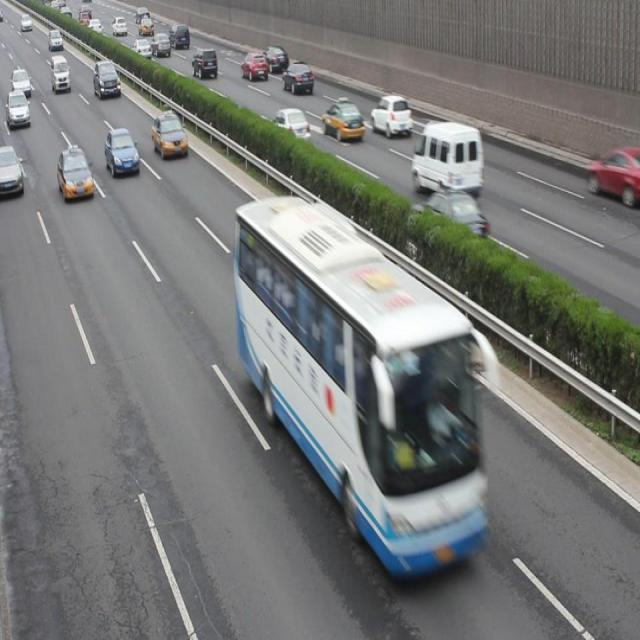car: (420, 188, 487, 243), (585, 147, 640, 206), (57, 145, 94, 202), (319, 94, 363, 140), (151, 110, 188, 160), (370, 92, 412, 136), (104, 130, 140, 176), (268, 108, 310, 143), (1, 144, 22, 199), (282, 61, 314, 94), (93, 61, 122, 97), (1, 91, 30, 126), (191, 47, 217, 80), (241, 51, 267, 78), (262, 46, 287, 73), (12, 70, 32, 97), (149, 33, 171, 56), (130, 39, 152, 61), (48, 30, 63, 50), (138, 16, 153, 34)
truck: (412, 120, 483, 196), (50, 56, 71, 92), (168, 26, 190, 50)
van: (234, 198, 495, 585)
